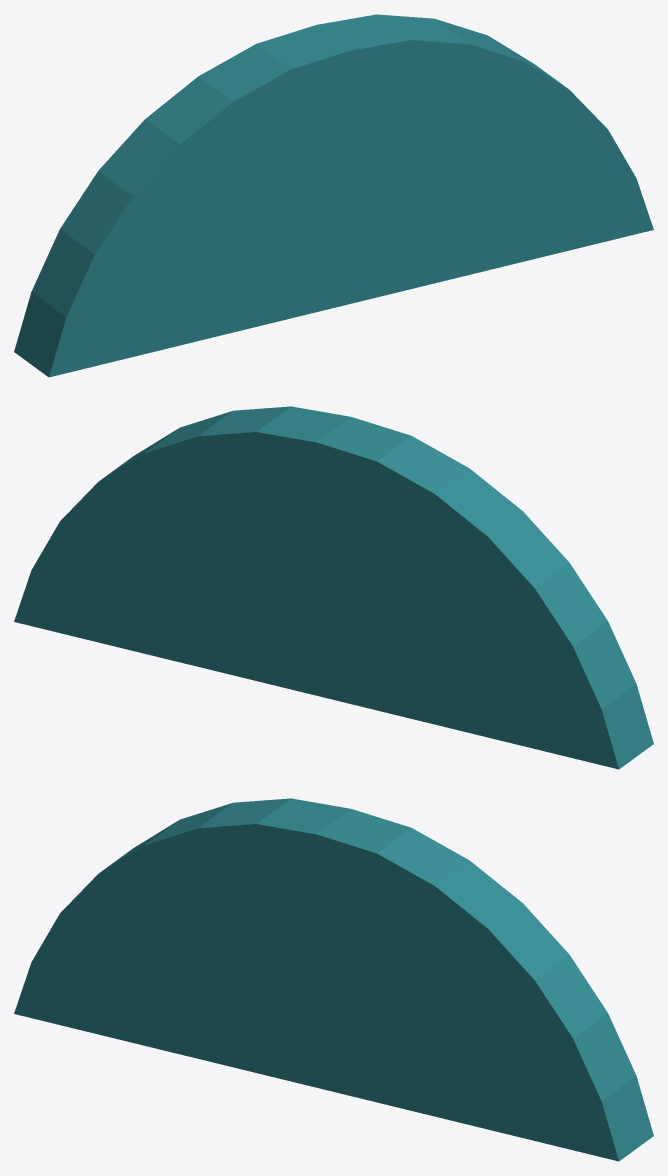
The model's file is hill-mid.fbx.
The picture shows the model from 3 angles, top to bottom: view 1: azimuth 30°, elevation 25°; view 2: azimuth 150°, elevation 25°; view 3: azimuth 330°, elevation 25°; orthographic projection.
Visible parts, largest first — view 1: Circle; view 2: Circle; view 3: Circle.
Part boxes in pixels (bbox=[...]): Circle: bbox=[14, 14, 653, 377]; Circle: bbox=[14, 406, 653, 769]; Circle: bbox=[14, 798, 653, 1161].
Bounding box in the file's own units: 100000 × 40000 × 10000.
